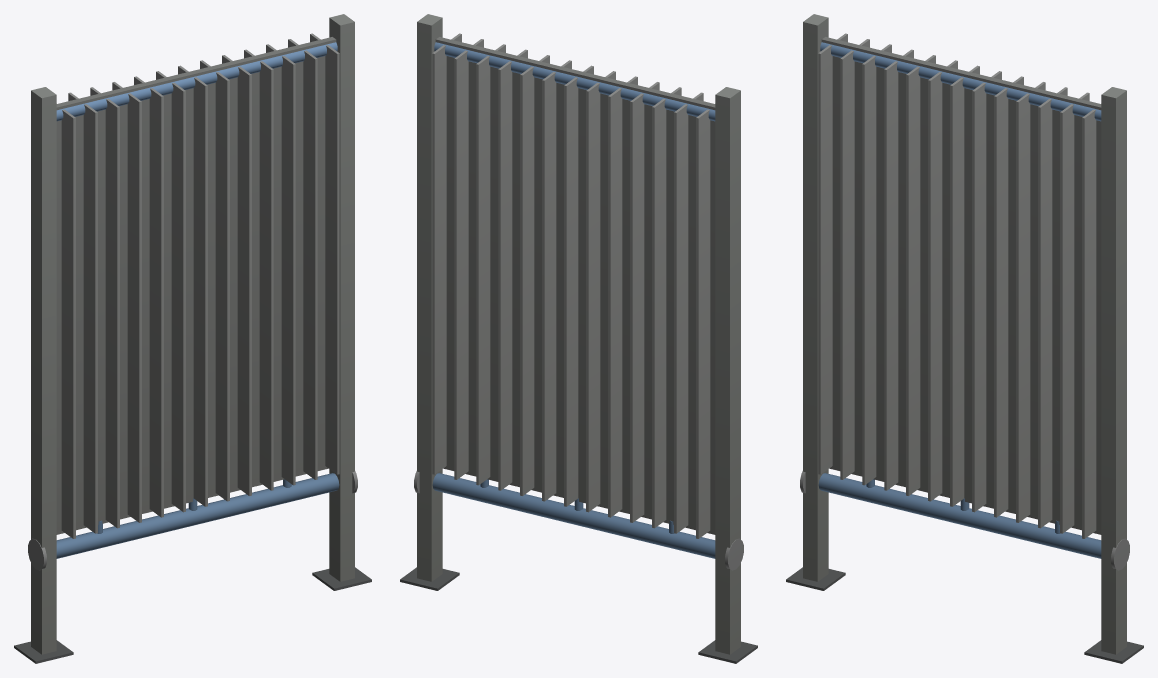
The model's file is mcJacket_steel.glb.
3 views of the same model, side by side, from view 1: azimuth 30°, elevation 25°; view 2: azimuth 150°, elevation 25°; view 3: azimuth 330°, elevation 25° (orthographic).
Parts seen in each view (by area): view 1: mcJacket_steel; view 2: mcJacket_steel; view 3: mcJacket_steel.
Part boxes in pixels (x1,y1,x2,y2): mcJacket_steel: (14,14,371,663); mcJacket_steel: (400,14,757,663); mcJacket_steel: (786,14,1143,663).
Bounding box in the file's own units: 2.14 × 3.4 × 0.3.
